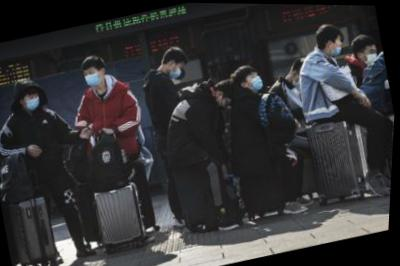OK: (83, 65, 104, 89), (23, 90, 43, 112), (246, 70, 265, 92), (364, 44, 382, 65), (168, 62, 187, 80)
WRONG: (331, 36, 347, 57)
